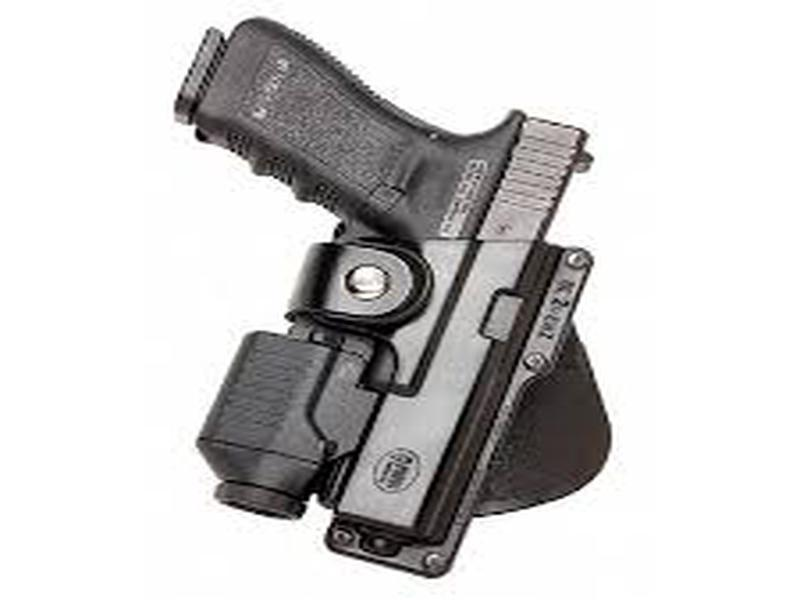gun: (173, 5, 593, 577)
